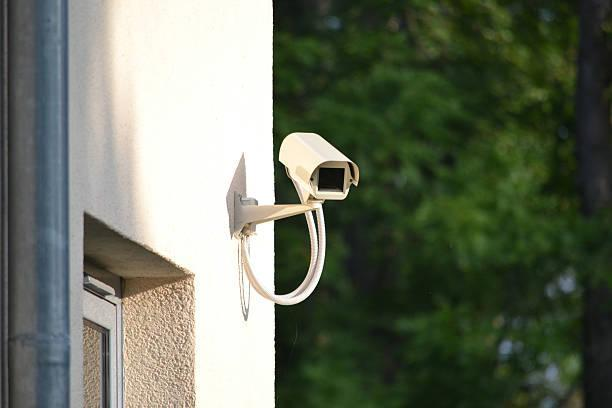camera: (263, 109, 371, 238)
